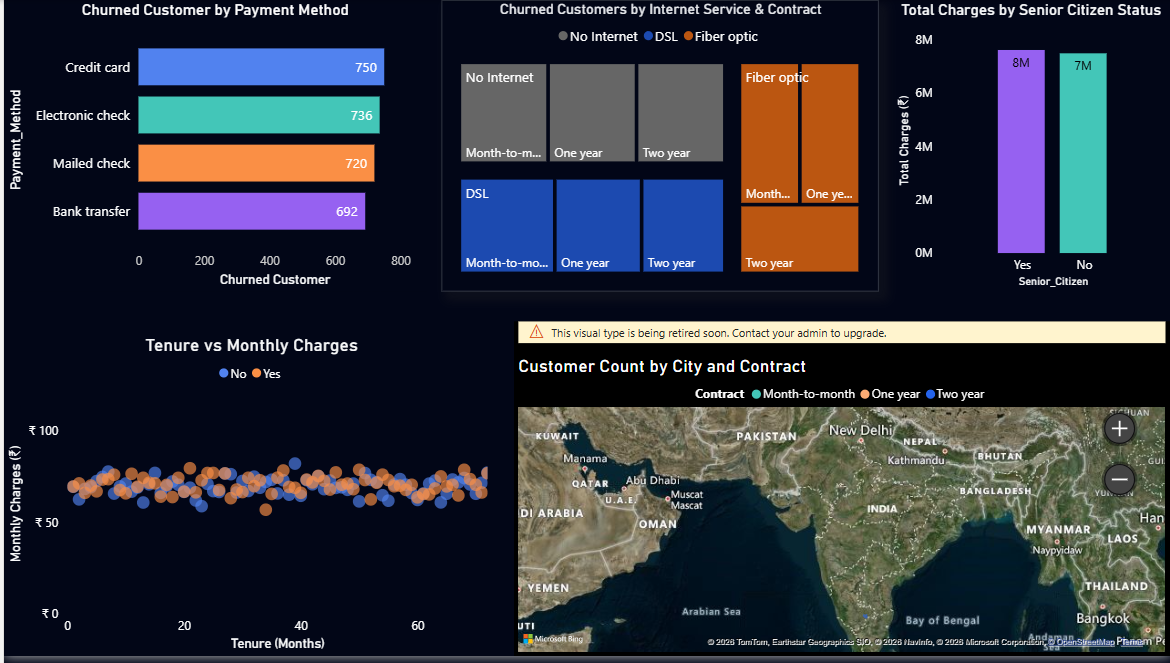

The dashboard page shown, as its layout file describes it:
{"tool":"powerbi","page":{"name":"Page 2","canvas":[1280,720],"ordinal":1},"visuals":[{"type":"barChart","title":"Churned Customer by Payment Method","fields":{"Category":["customer churn prediction.Payment_Method"],"Y":["customer churn prediction.Churned Customer"]},"box":[0,0,464,320],"z":0},{"type":"scatterChart","title":"Tenure vs Monthly Charges","fields":{"X":["customer churn prediction.Tenure"],"Series":["customer churn prediction.Churn_Status"],"Y":["Avg(customer churn prediction.Monthly_Charges)"]},"box":[0,368,544,352],"z":1000},{"type":"filledMap","title":"Customer Count by City and Contract","fields":{"Category":["customer churn prediction.City"],"Series":["customer churn prediction.Contract"]},"box":[560,352,720,368],"z":2000},{"type":"clusteredColumnChart","title":"Total Charges by Senior Citizen Status","fields":{"Category":["customer churn prediction.Senior_Citizen"],"Y":["Sum(customer churn prediction.Total_Charges)"]},"box":[976,0,304,320],"z":3000},{"type":"treemap","title":"Churned Customers by Internet Service & Contract","fields":{"Details":["customer churn prediction.Contract"],"Values":["CountNonNull(customer churn prediction.Customer_ID)"],"Group":["customer churn prediction.Internet_Service"]},"box":[480,0,480,320],"z":4000}]}

Visuals, with their boxes in screenshot pixels (x1, y1, x2, y2), scaled from the page's 1280x720 canvas onto the 1170x663 screenshot:
"Churned Customer by Payment Method" barChart: left=0, top=0, right=424, bottom=295
"Tenure vs Monthly Charges" scatterChart: left=0, top=339, right=497, bottom=662
"Customer Count by City and Contract" filledMap: left=512, top=324, right=1169, bottom=662
"Total Charges by Senior Citizen Status" clusteredColumnChart: left=892, top=0, right=1169, bottom=295
"Churned Customers by Internet Service & Contract" treemap: left=439, top=0, right=878, bottom=295
